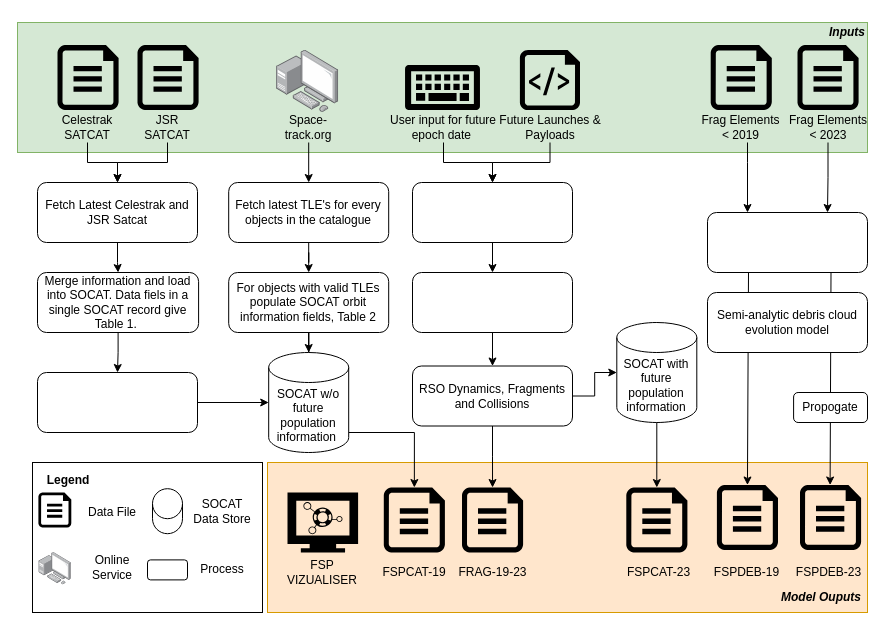
The diagram is 895 pixels wide and 630 high, and some of its shapes have lost their labels. The shapes that lost their labels are listed below. From the top down, each one's centre as x and y in pixels, then its label:
[492,212]: Add RSOs from future launches up to epoch of interest
[787,242]: NASA Evolve Breakup Model
[492,302]: Decay/De-orbiting Models
[117,402]: Remove Debris
